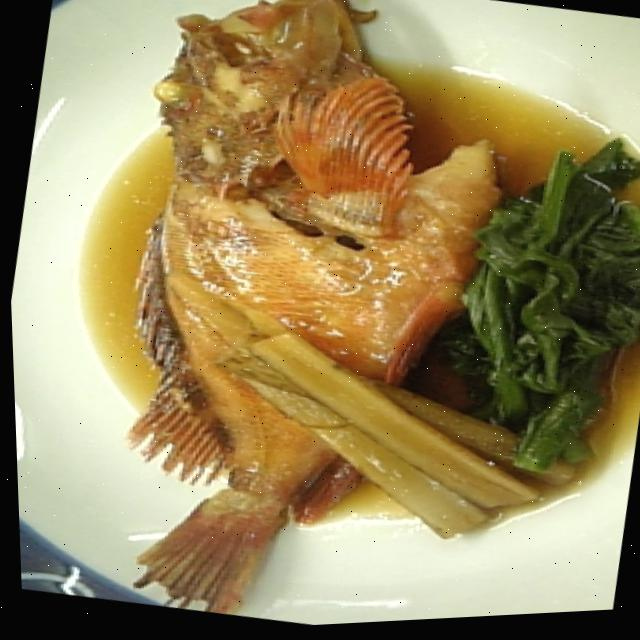熟制海鲜: (9, 0, 574, 640)
